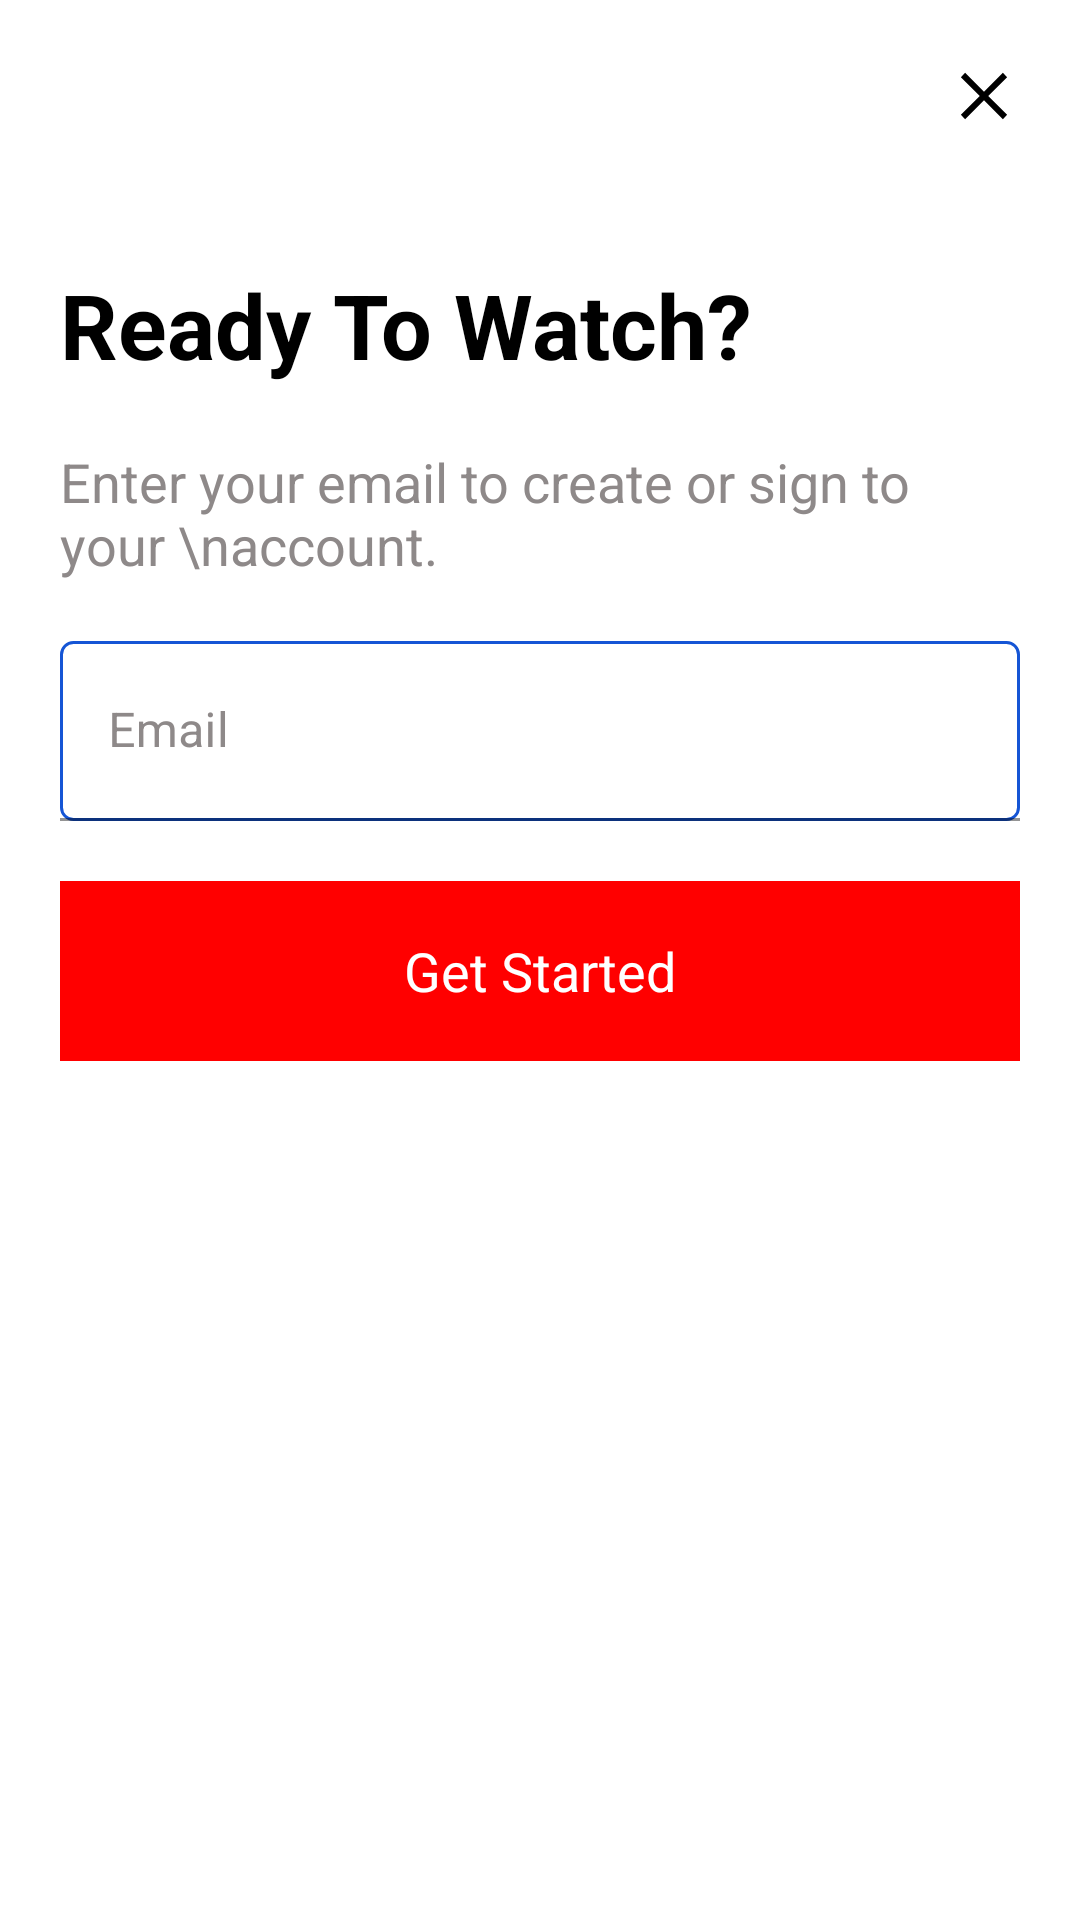

Where icons sit on this 1080px x 1920px app screen, as [x1=x1, y1=y1, x2=x2, y2=y2]:
cancel: [x1=961, y1=73, x2=1007, y2=119]
